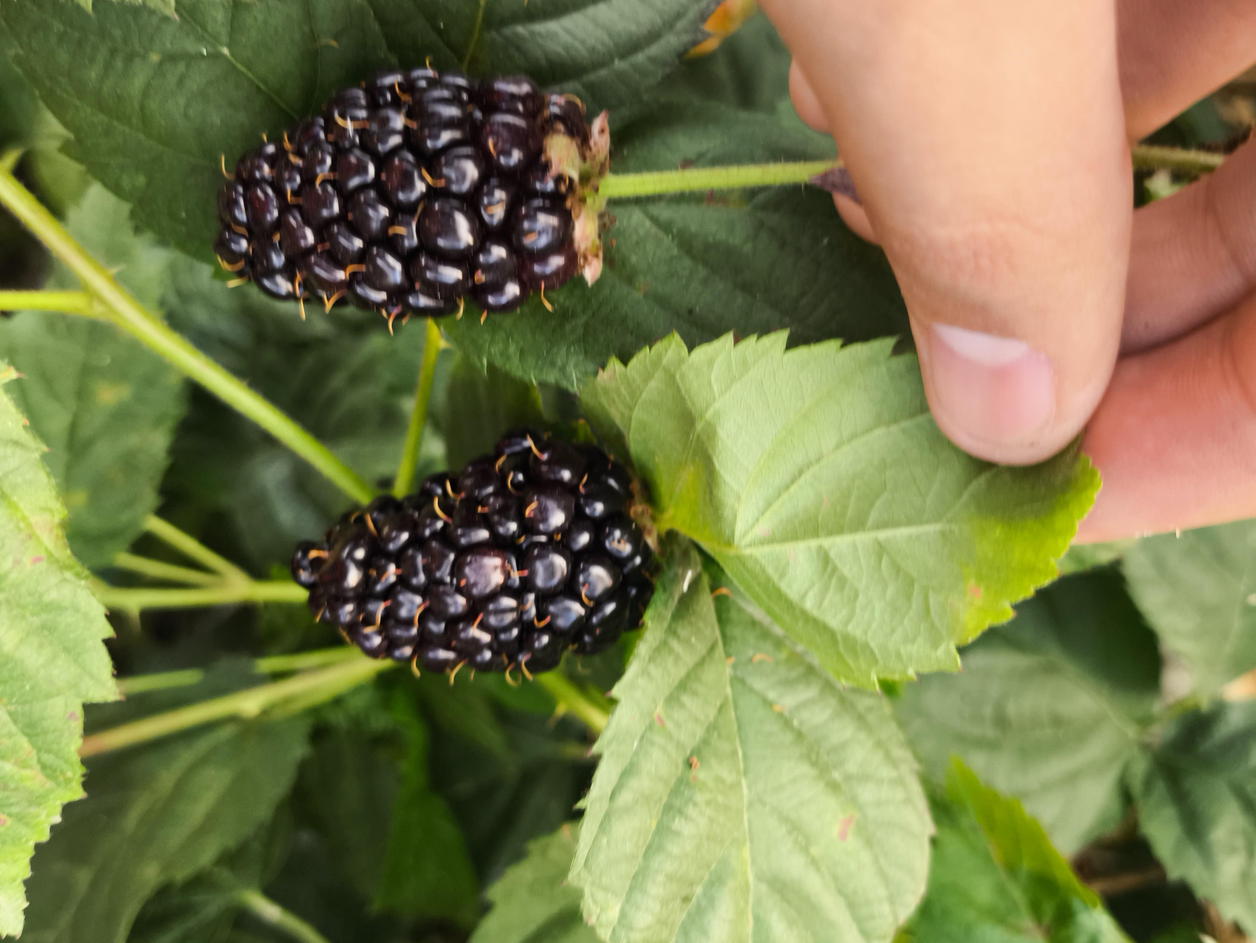maduro: (212, 73, 589, 323), (307, 426, 641, 674)
